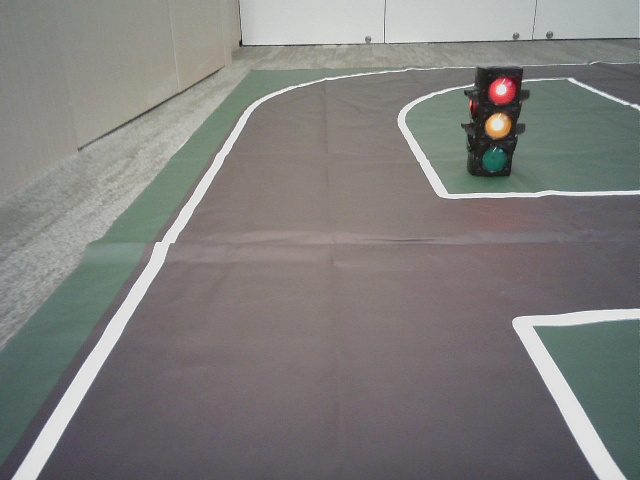red: (477, 69, 516, 173)
